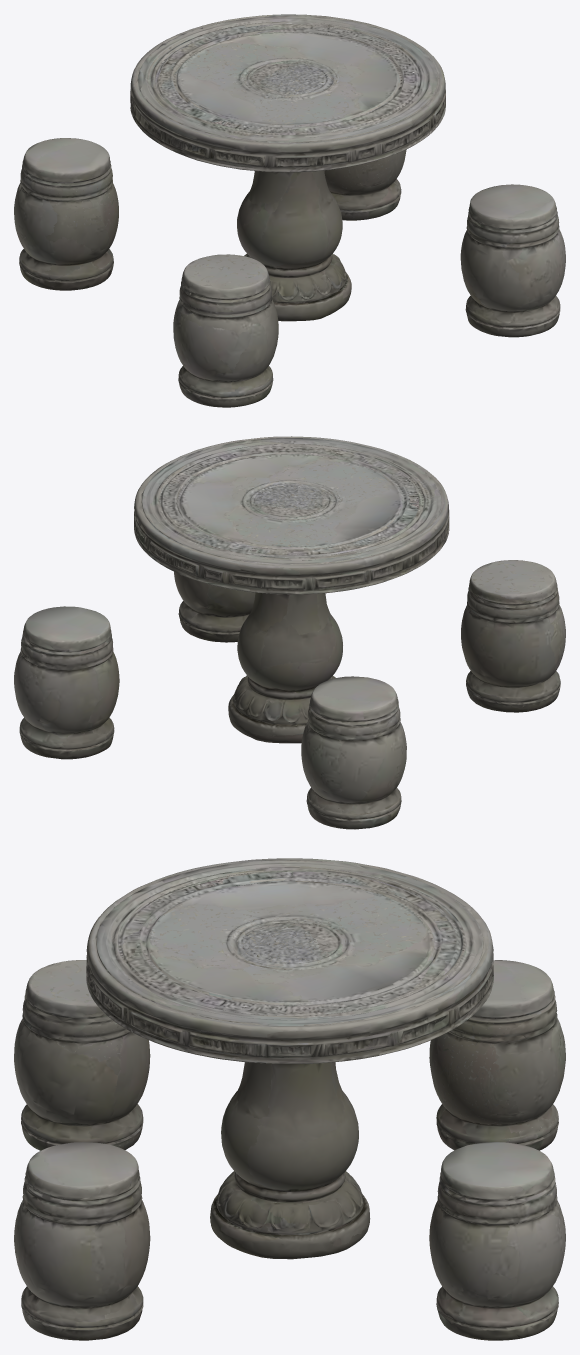
File: ShiZhuoGuDengZu.glb
3 views of the same model, one above another, from view 1: azimuth 30°, elevation 25°; view 2: azimuth 150°, elevation 25°; view 3: azimuth 270°, elevation 25° (orthographic). The views are drawn at different scales.
Parts seen in each view (by area): view 1: node_0; view 2: node_0; view 3: node_0.
Part boxes in pixels (left/top/right/bottom): node_0: left=14, top=14, right=565, bottom=407; node_0: left=14, top=436, right=565, bottom=829; node_0: left=14, top=858, right=565, bottom=1340.
Bounding box in the file's own units: 0.8751 × 0.4866 × 0.8493.
Materials: 1 (1 with a texture image).
